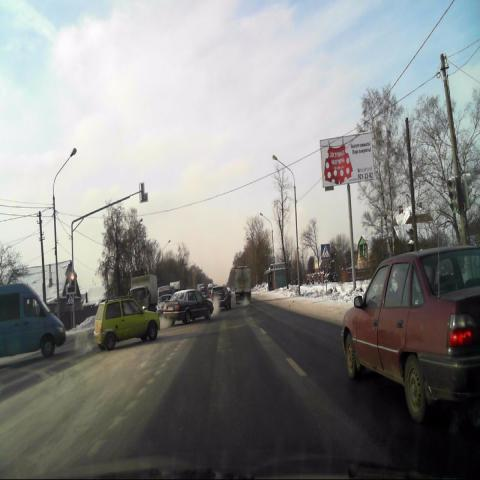5_19_1: (320, 243, 330, 259)
